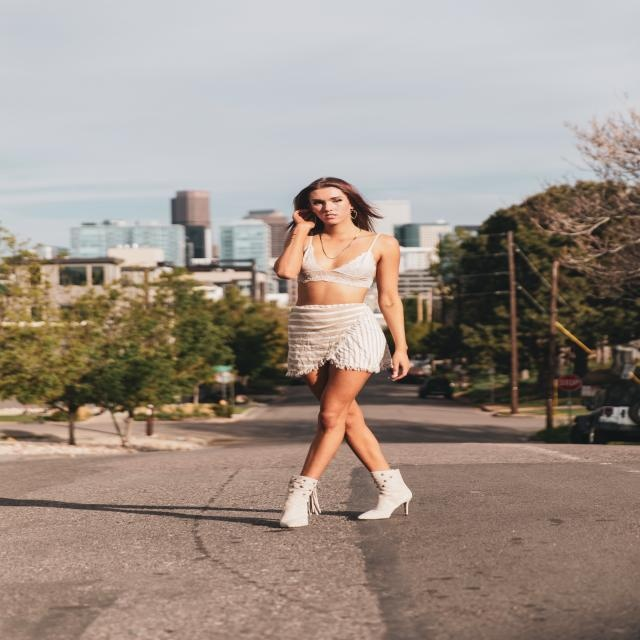Crop_Top: (296, 272, 375, 305)
Miniskirt: (283, 306, 397, 471)
Sleeveless: (372, 232, 401, 256)
low_neckline: (301, 230, 378, 280)
